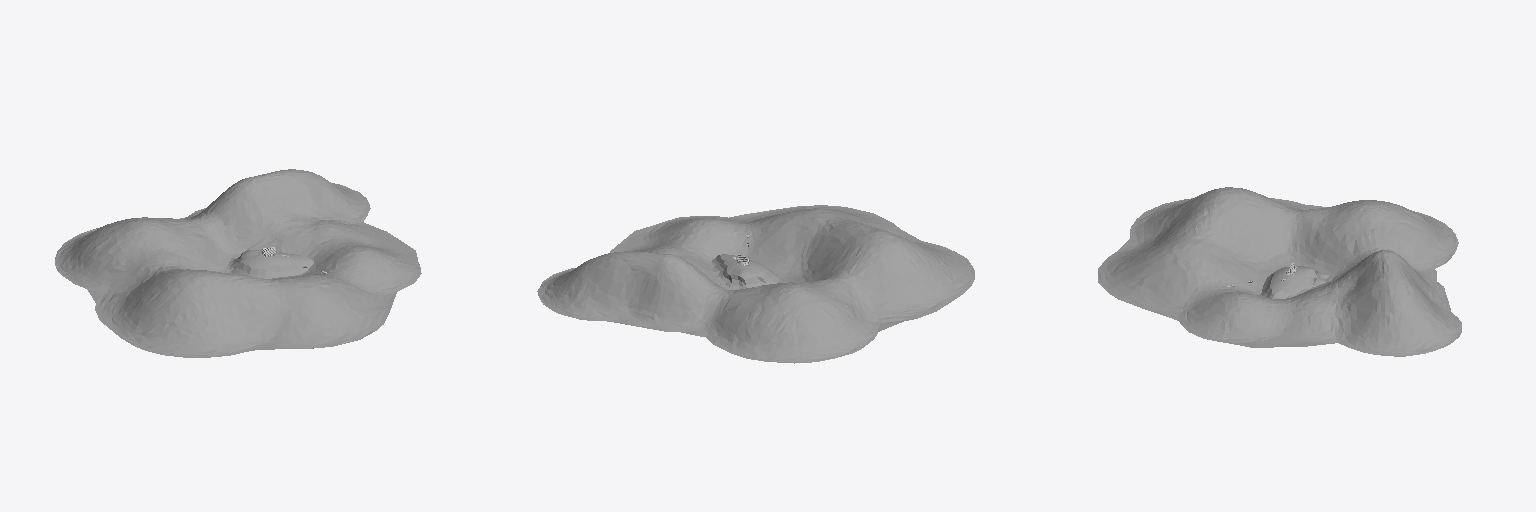
File: lake — копия.obj
3 views of the same model, side by side, from view 1: azimuth 30°, elevation 25°; view 2: azimuth 150°, elevation 25°; view 3: azimuth 270°, elevation 25° (orthographic).
Parts seen in each view (by area): view 1: Grid, Grid.002; view 2: Grid, Grid.002; view 3: Grid, Grid.002.
Part boxes in pixels (bbox=[...]): Grid: bbox=[55, 169, 421, 357]; Grid.002: bbox=[228, 250, 313, 278]; Grid: bbox=[537, 205, 974, 363]; Grid.002: bbox=[712, 254, 779, 289]; Grid: bbox=[1098, 187, 1461, 356]; Grid.002: bbox=[1261, 266, 1328, 298].
Size of the model in its own units: 1.6 by 0.252 by 1.54.